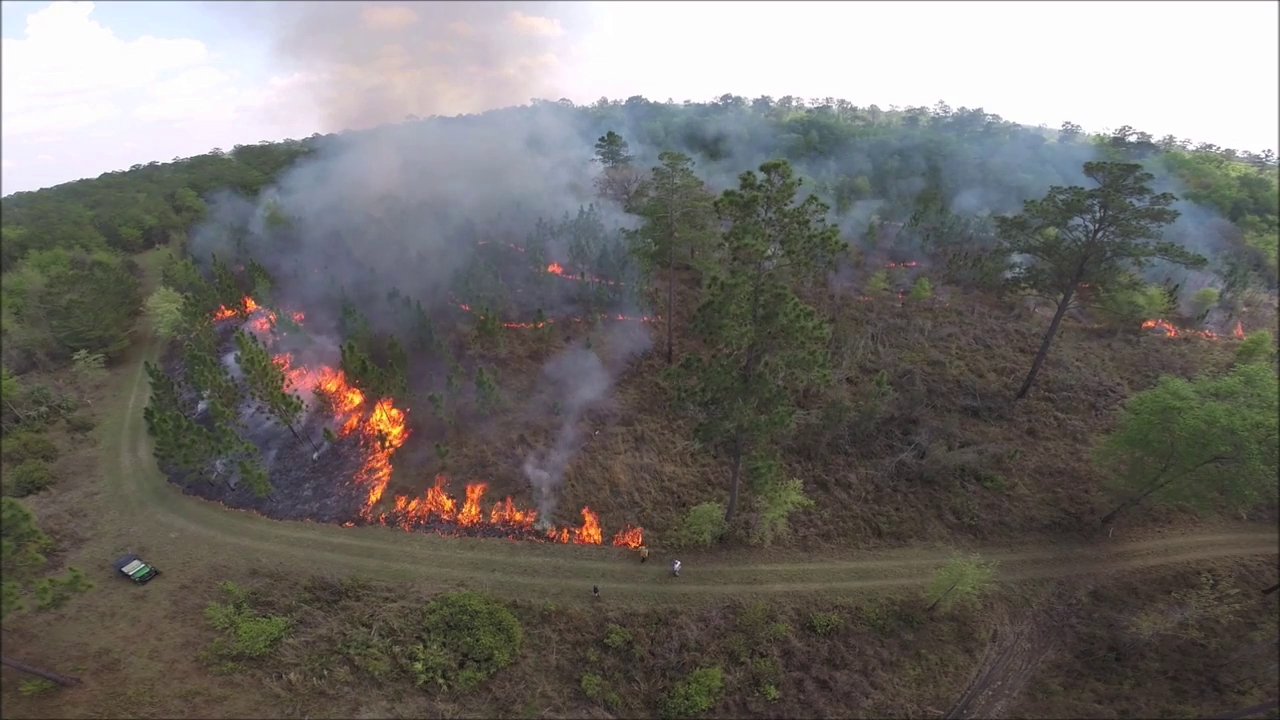forest_fire: (272, 353, 601, 543), (214, 295, 272, 343), (1142, 319, 1219, 338), (612, 526, 641, 545), (1231, 320, 1244, 337), (547, 263, 563, 274), (290, 312, 303, 321), (617, 316, 626, 318), (645, 318, 646, 319)
